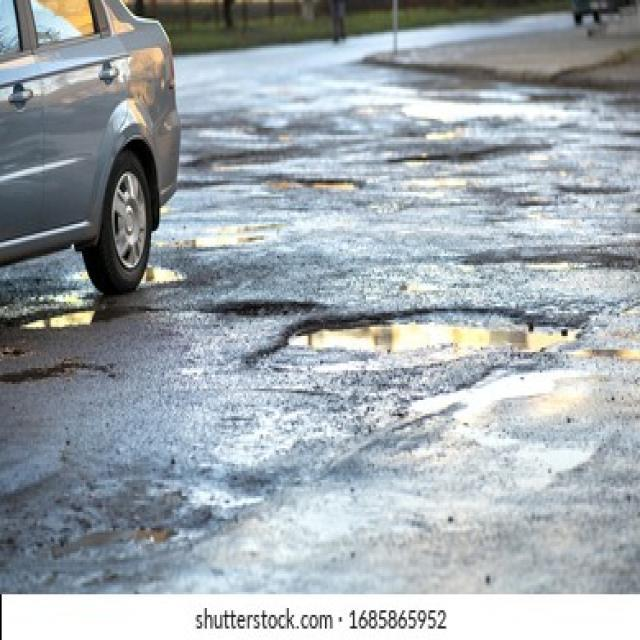Pothole: (285, 304, 586, 359), (266, 174, 360, 194), (0, 366, 107, 382)
